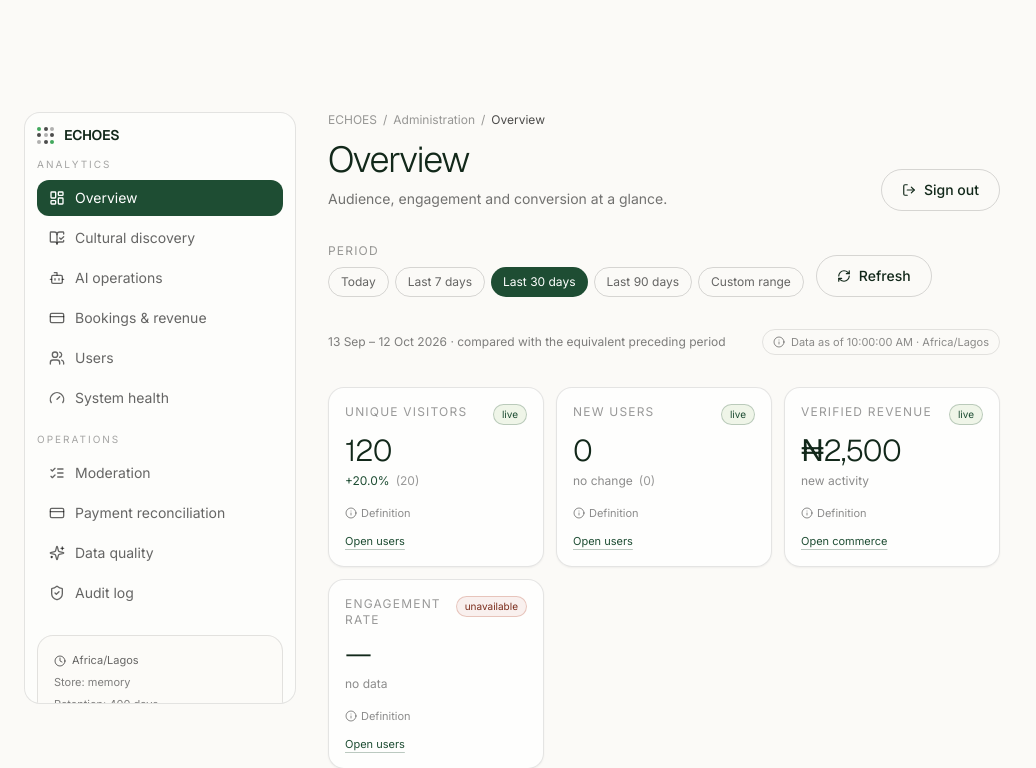
Test: navigation › marks the current section and follows the URL hash
The width and height of the screenshot is (1036, 768).
Expected: the button "Overview" is shown, x1=37 y1=180 x2=283 y2=216
Expected: the text "Unique visitors" is shown, x1=345 y1=404 x2=467 y2=420
Click the button "Users" at [160, 358], box x1=37 y1=340 x2=283 y2=376
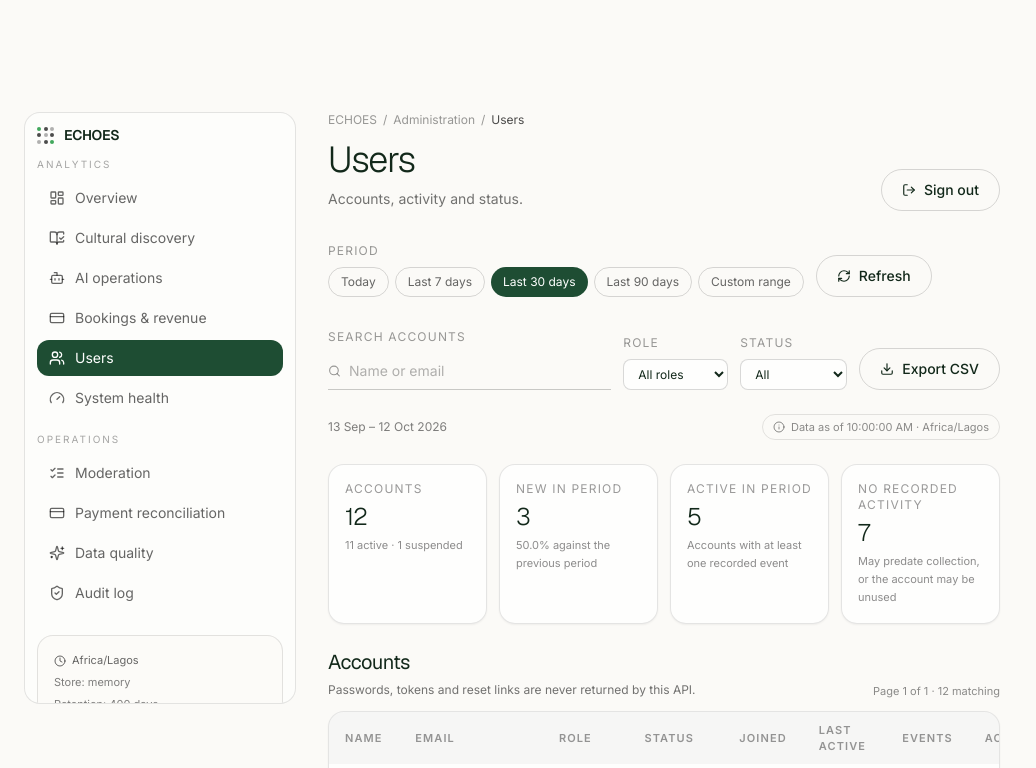
Now the heading "Users" is shown, box x1=328 y1=136 x2=415 y2=183
